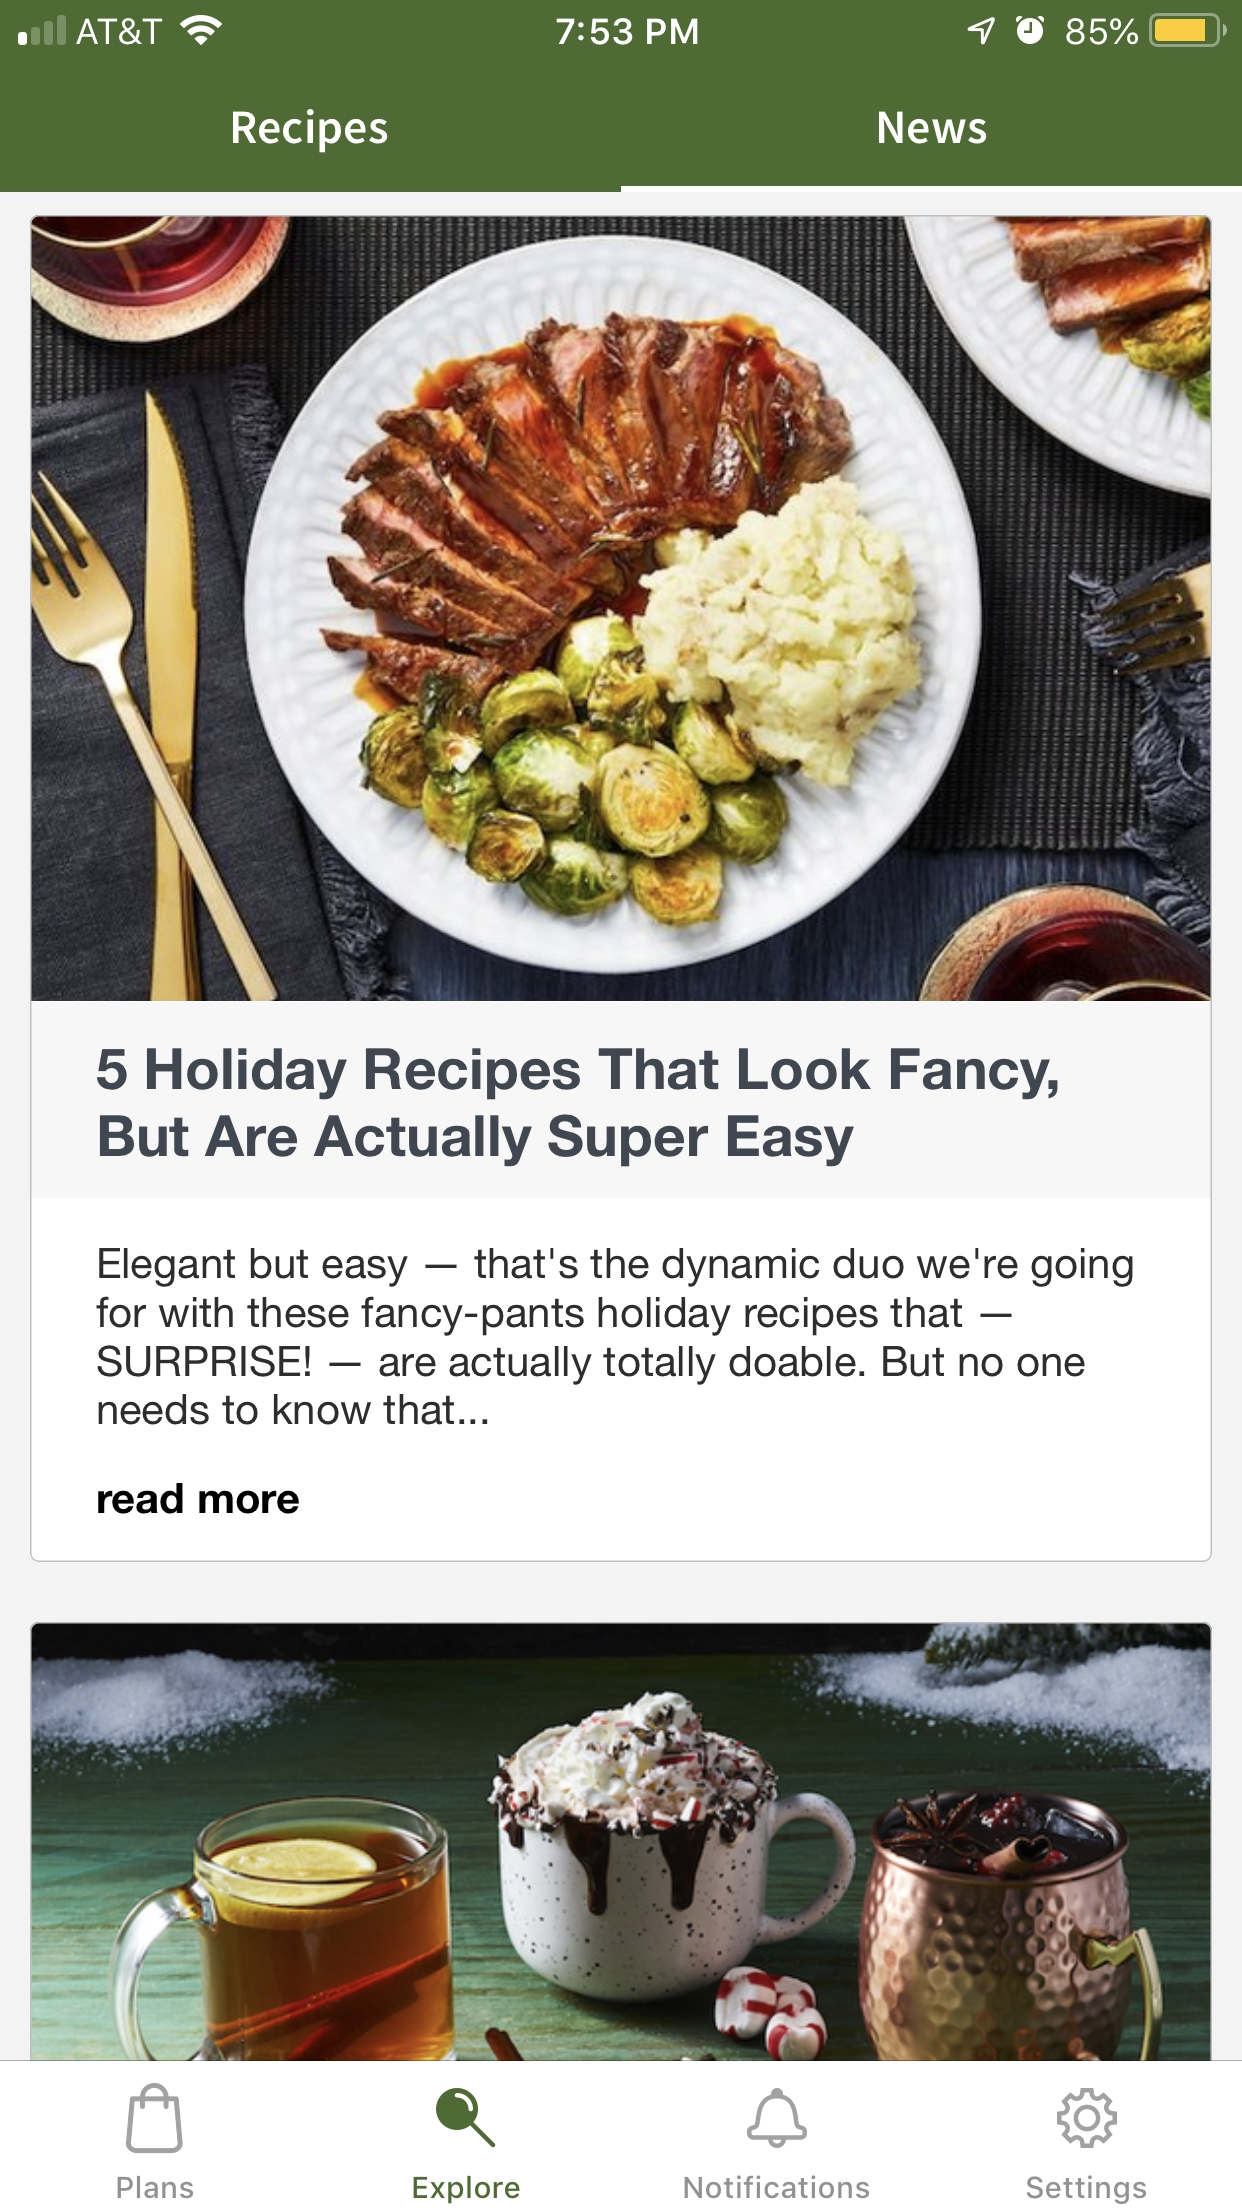Icon: (127, 2084, 185, 2153), (1055, 2087, 1118, 2149), (435, 2087, 496, 2147), (748, 2088, 808, 2149)
Image: (33, 218, 1210, 1002), (32, 1624, 1210, 2061)
Text: (96, 1247, 1134, 1425), (97, 1048, 1059, 1168), (234, 109, 390, 155), (99, 1482, 300, 1515), (684, 2175, 870, 2199), (878, 111, 987, 146), (1027, 2175, 1146, 2205), (414, 2175, 522, 2203), (118, 2175, 196, 2199)
UpperTaskBar: (2, 2, 1242, 49)
